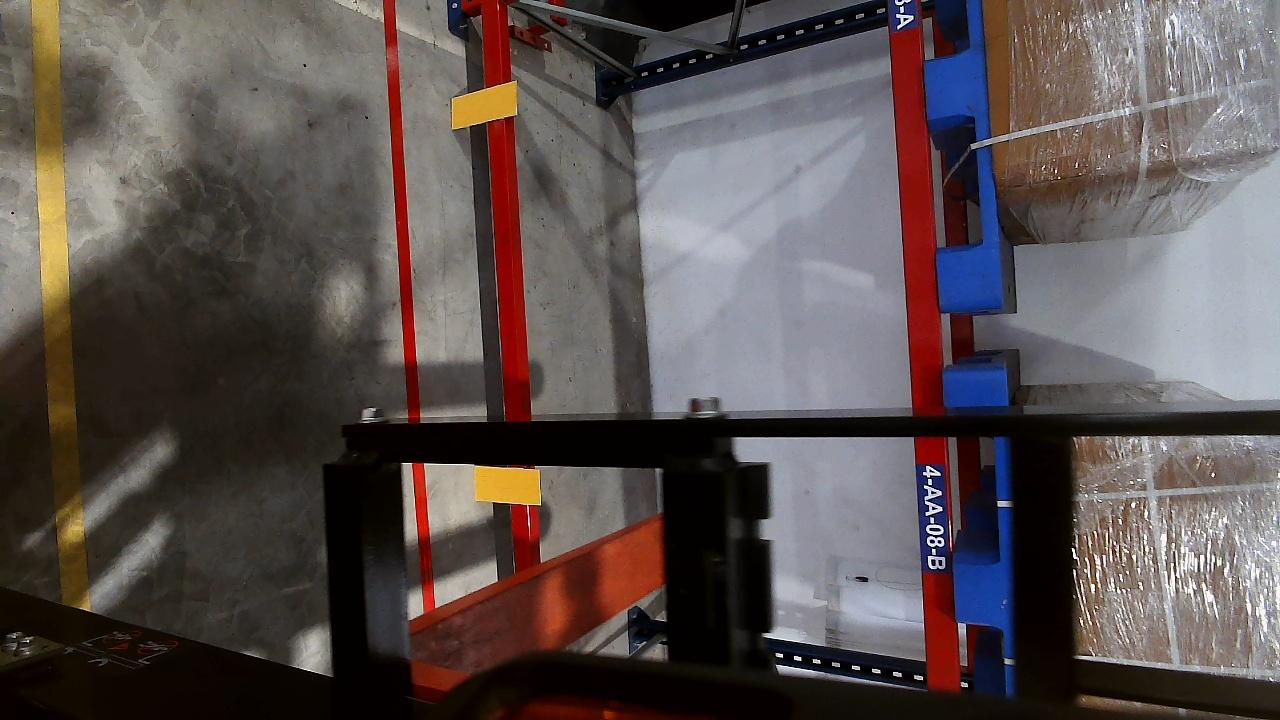h_rack: (884, 1, 960, 689), (475, 4, 545, 571)
orange_strip: (450, 82, 519, 129), (473, 466, 541, 505)
red_line: (380, 0, 438, 613)
small_pallet: (916, 0, 1007, 305), (947, 369, 1015, 693)
yellow_line: (27, 0, 88, 616)
